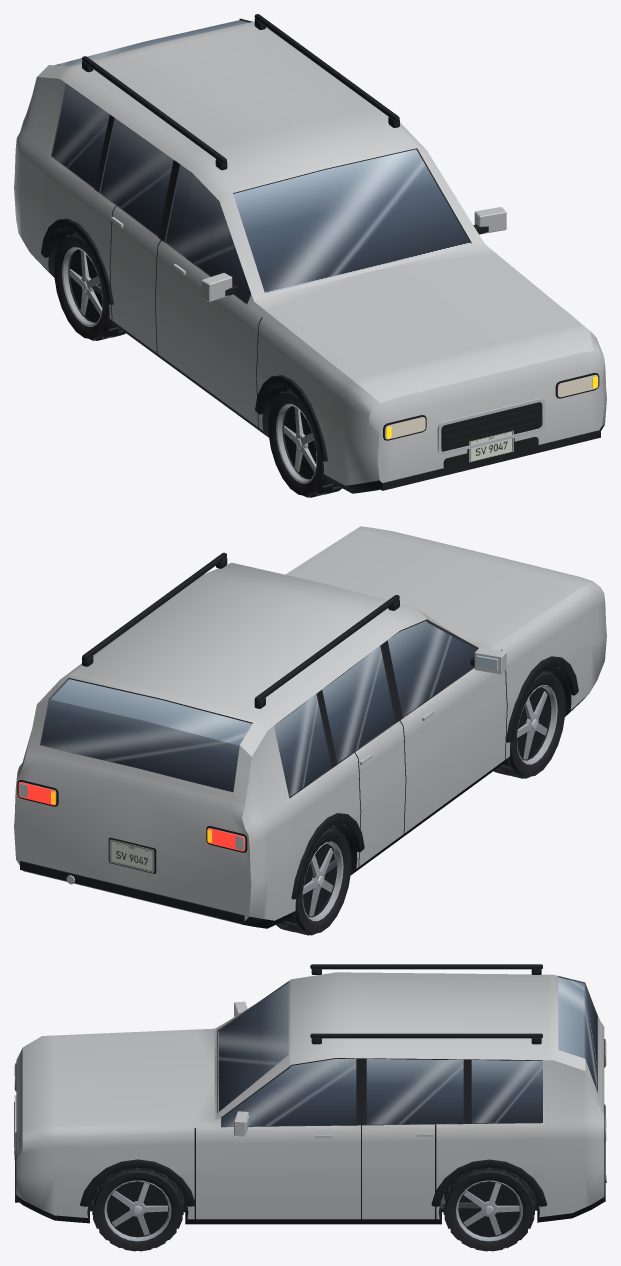
File: SUV.fbx
The picture shows the model from 3 angles, top to bottom: view 1: azimuth 30°, elevation 25°; view 2: azimuth 150°, elevation 25°; view 3: azimuth 270°, elevation 25°; orthographic projection. The views are drawn at different scales.
Visible parts, largest first — view 1: Body, Wheel_FR, Wheel_RR; view 2: Body, Wheel_FR, Wheel_RR; view 3: Body, Wheel_FL, Wheel_RL.
Boxes of the visible parts, bbox=[...] form: Body: bbox=[14, 14, 606, 493]; Wheel_FR: bbox=[268, 388, 342, 497]; Wheel_RR: bbox=[54, 232, 125, 340]; Body: bbox=[14, 526, 606, 928]; Wheel_FR: bbox=[494, 669, 565, 778]; Wheel_RR: bbox=[276, 826, 351, 935]; Body: bbox=[14, 964, 606, 1224]; Wheel_FL: bbox=[92, 1167, 183, 1251]; Wheel_RL: bbox=[443, 1167, 535, 1251].
Bounding box in the file's own units: 2.23 × 1.77 × 4.64.
